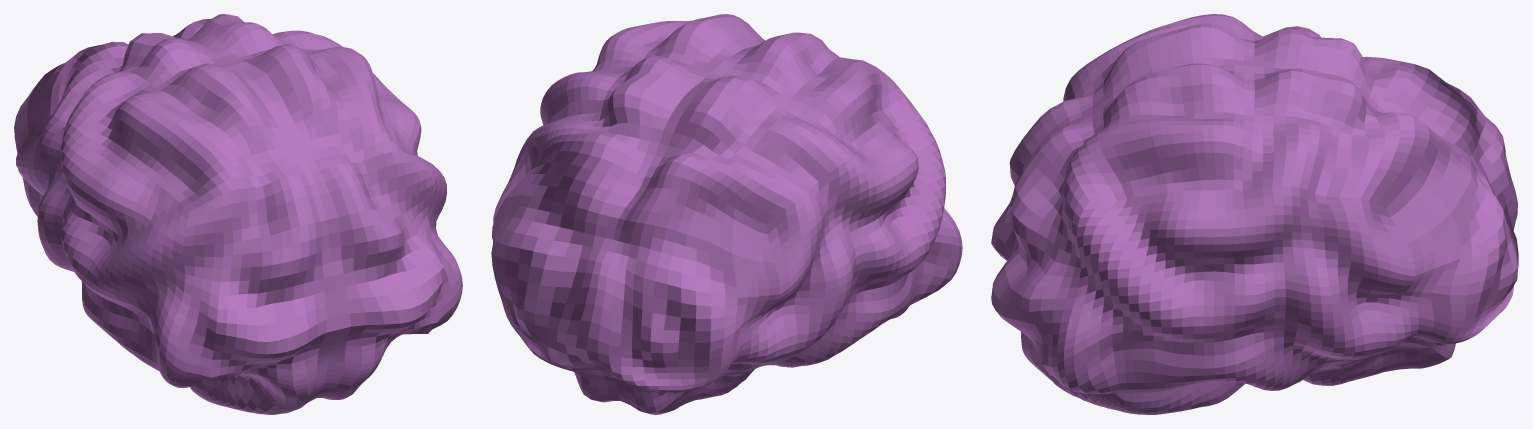
Rendered from Brain.glb.
3 views of the same model, side by side, from view 1: azimuth 30°, elevation 25°; view 2: azimuth 150°, elevation 25°; view 3: azimuth 270°, elevation 25° (orthographic). The views are drawn at different scales.
Visible parts, largest first — view 1: Roundcube.001; view 2: Roundcube.001; view 3: Roundcube.001.
Part boxes in pixels (box(x1,y1,x2,y2)): Roundcube.001: box(14, 14, 462, 414); Roundcube.001: box(491, 14, 962, 414); Roundcube.001: box(991, 14, 1518, 414).
Size of the model in its own units: 1.85 by 1.7 by 2.31.
